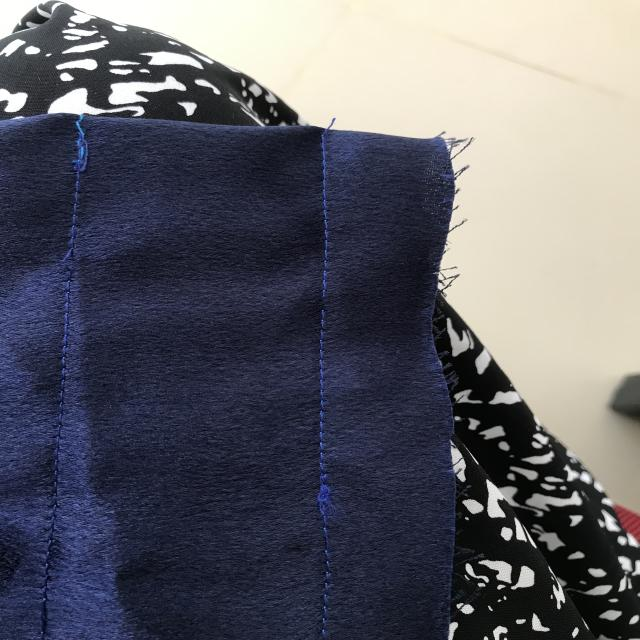broken: (304, 281, 339, 320), (58, 238, 84, 280)
good: (312, 356, 343, 462), (49, 318, 80, 392), (316, 159, 342, 238)
